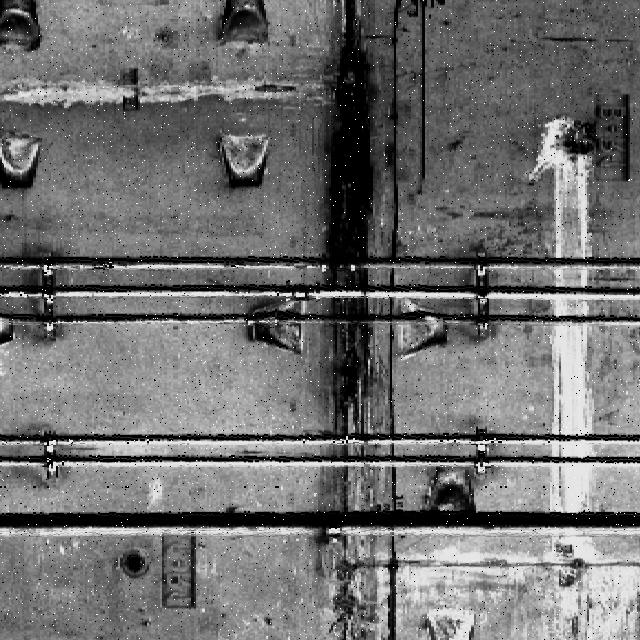leakage: (306, 1, 390, 635)
